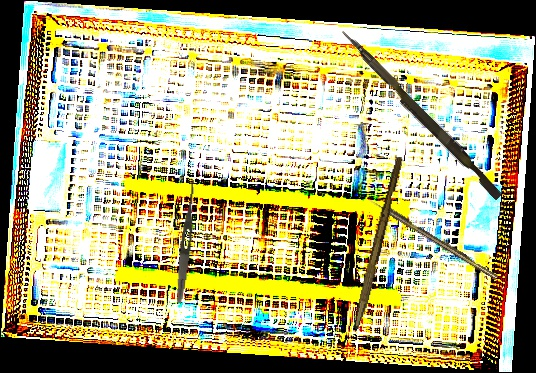Dressing Forceps: (174, 179, 198, 304)
Hook Surgical: (368, 196, 499, 281)
Pusher: (334, 28, 507, 201)
Scalpel Handle: (352, 155, 405, 331)
